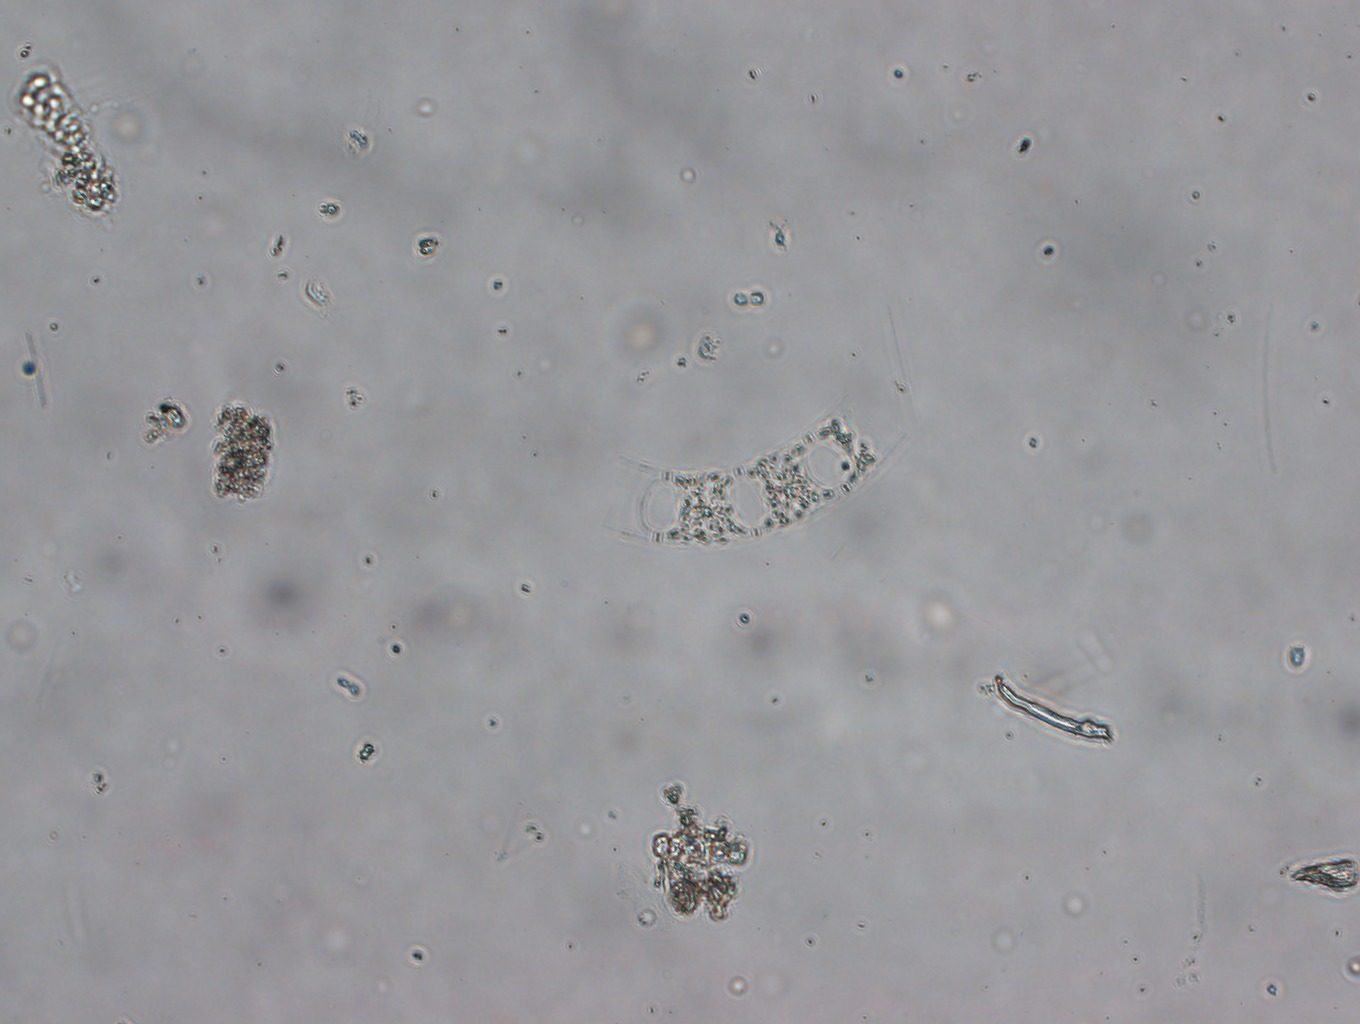eucampia: (605, 404, 911, 545)
